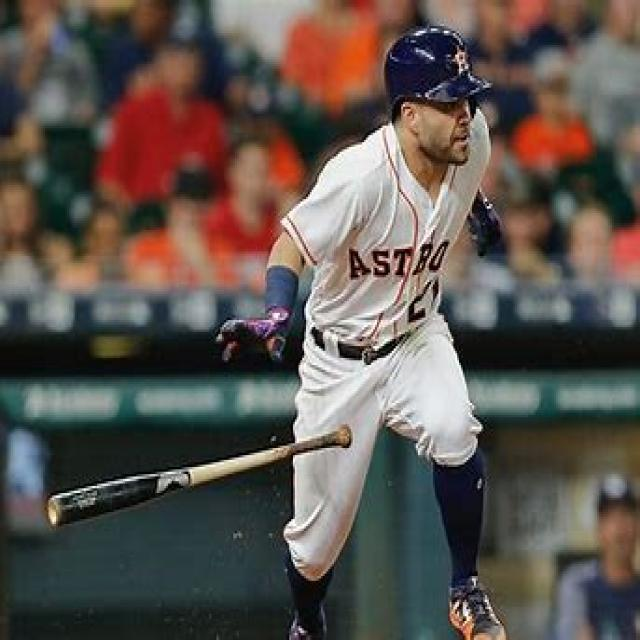bat: (43, 420, 358, 535)
